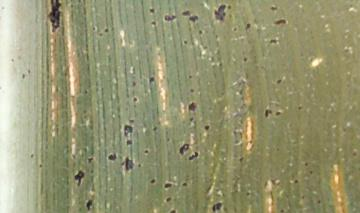tarspot: (46, 1, 63, 33), (119, 155, 135, 172), (213, 3, 226, 22), (73, 170, 84, 186), (178, 143, 190, 156), (211, 201, 223, 213), (272, 18, 287, 27), (123, 124, 133, 137), (163, 14, 177, 23), (187, 101, 197, 113), (263, 107, 273, 119), (85, 198, 94, 211), (188, 151, 199, 161), (107, 151, 117, 161), (163, 181, 174, 190), (188, 15, 199, 24), (180, 10, 192, 18), (164, 195, 173, 204), (268, 38, 278, 46), (125, 138, 133, 147), (147, 76, 155, 85), (150, 125, 159, 133), (188, 115, 195, 125), (86, 156, 94, 164), (149, 19, 157, 27), (148, 7, 156, 15), (350, 149, 358, 157), (269, 5, 278, 12), (244, 22, 251, 31), (20, 72, 27, 81), (126, 117, 135, 124), (203, 123, 210, 131), (149, 177, 156, 185), (131, 95, 138, 103), (9, 56, 16, 64), (142, 148, 150, 155), (299, 193, 307, 200), (226, 3, 232, 12), (28, 151, 34, 160), (131, 79, 137, 88), (168, 208, 178, 213), (275, 78, 282, 85), (103, 27, 110, 34), (37, 162, 44, 169), (181, 181, 188, 188), (296, 104, 303, 111), (181, 39, 189, 45), (186, 73, 194, 79), (274, 110, 282, 116), (238, 155, 244, 163), (197, 29, 204, 35), (242, 56, 248, 63), (90, 25, 96, 32), (25, 67, 31, 74), (136, 162, 142, 169), (82, 88, 88, 95), (293, 178, 299, 185), (303, 160, 309, 167), (244, 190, 250, 197), (188, 88, 196, 93), (308, 169, 314, 175), (316, 198, 322, 204), (278, 207, 284, 213), (232, 26, 237, 33), (97, 32, 104, 37), (75, 1, 81, 4)
